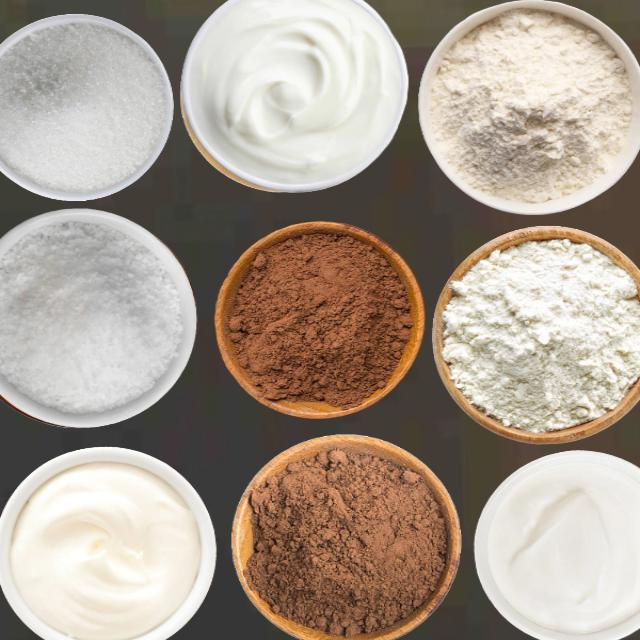Cocoa: (216, 221, 423, 417), (245, 446, 447, 637)
Flour: (428, 7, 633, 203), (440, 237, 639, 433)
Sugar: (0, 219, 183, 414), (0, 19, 168, 193)
